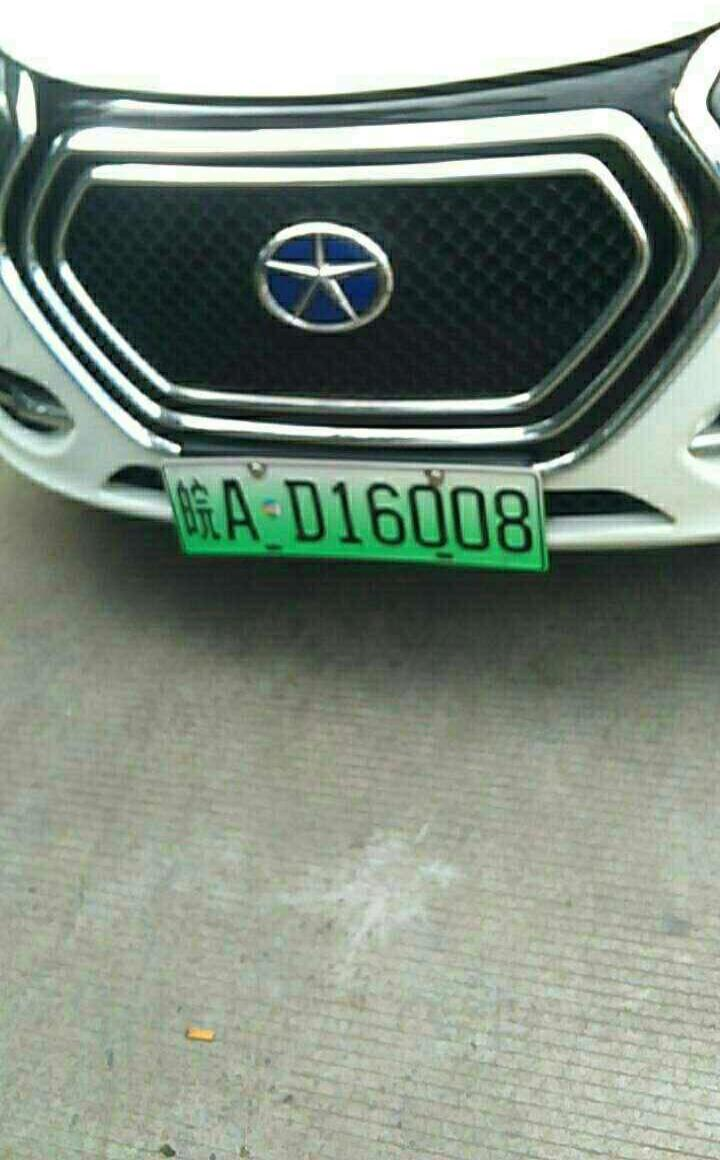car_id: (165, 479, 537, 571)
